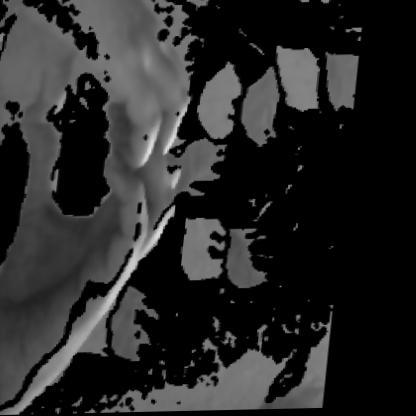heart: (0, 26, 202, 335)
